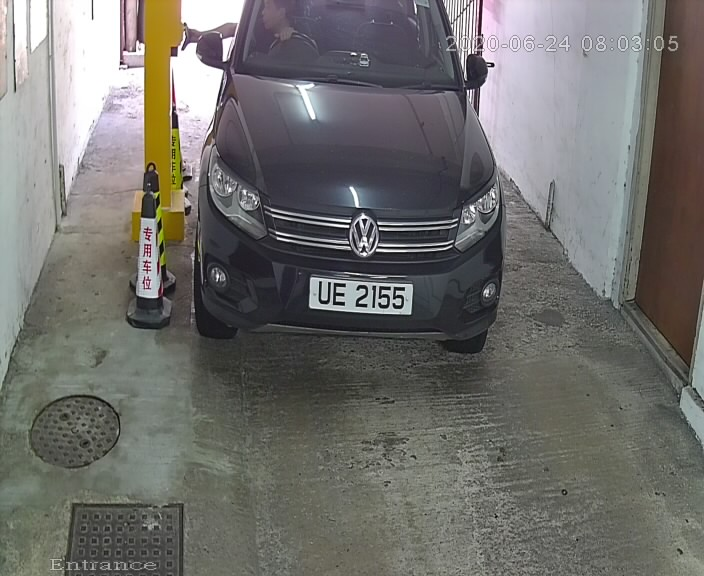privatecar: (185, 1, 529, 388)
